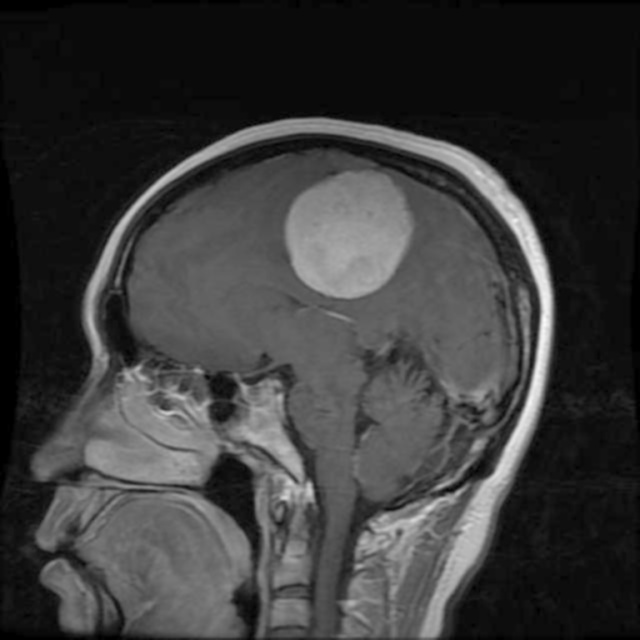meningioma tumor: (275, 160, 426, 304)
